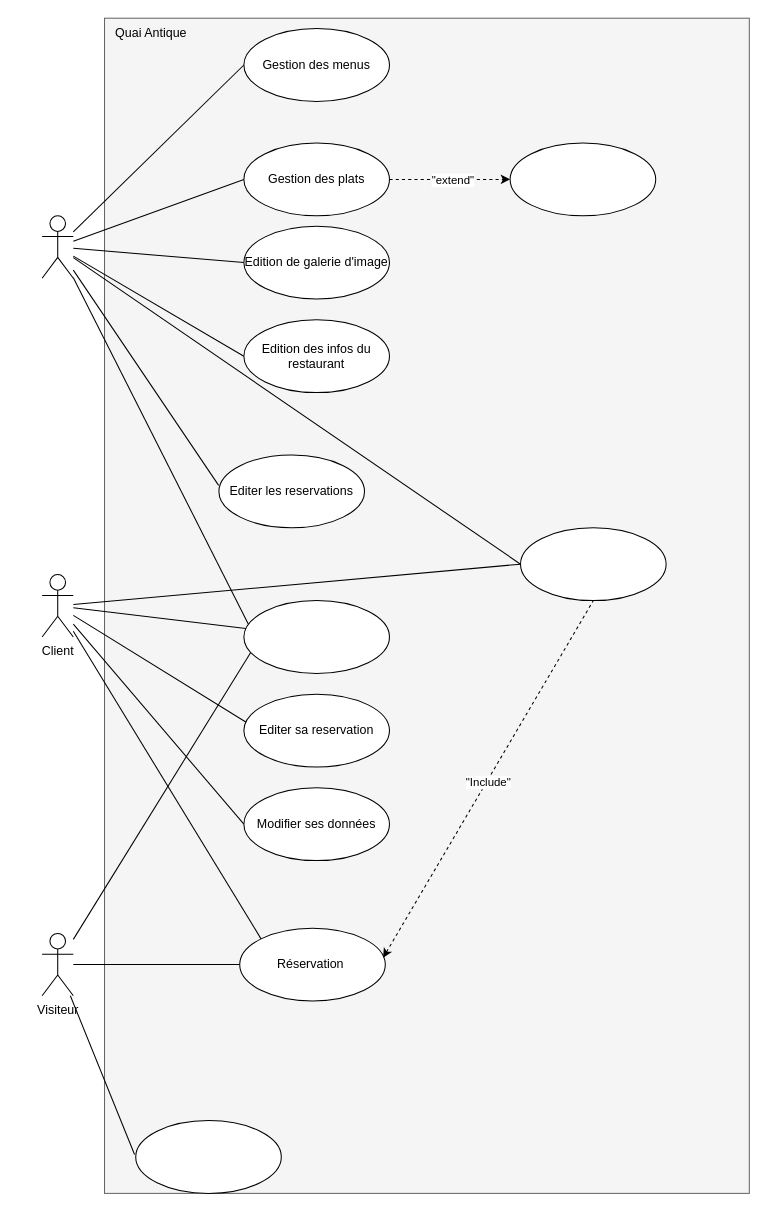
Image size: 768x1212. Some labels were removed from this diagram. Here are the shapes that lost their labels. From the top down, the centre of each, then its label:
pixel 582 179: Gestion des catégories
pixel 57 246: Administrateur
pixel 592 564: Connexion
pixel 316 636: Consultation de Carte
pixel 208 1156: Inscription
